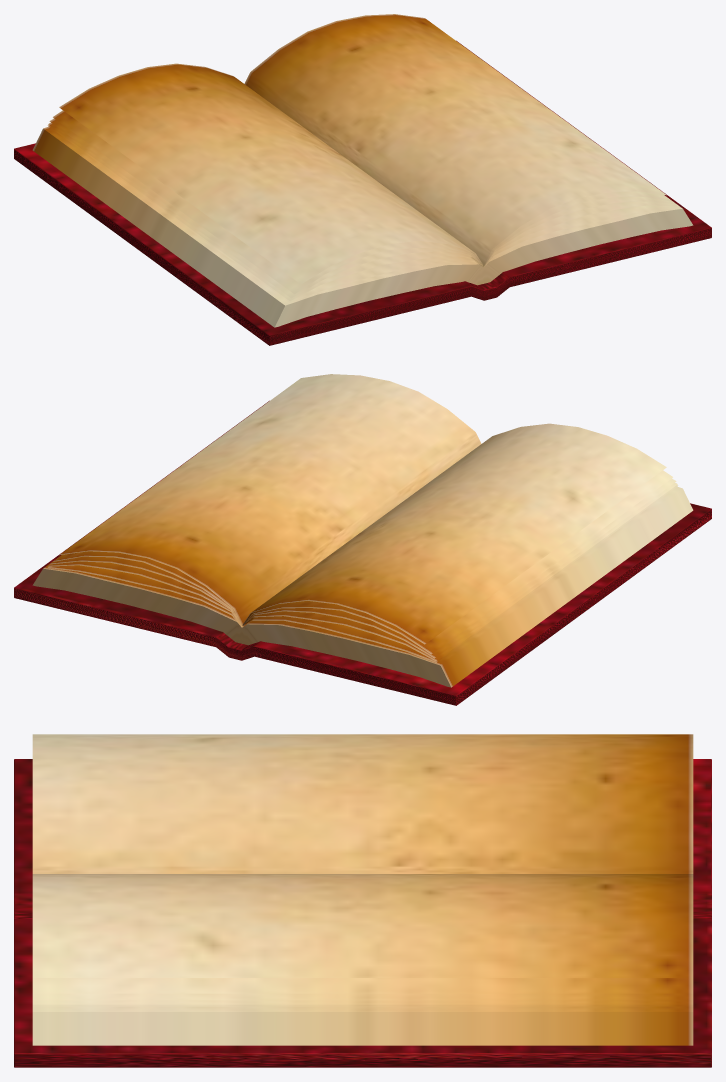
3 renders of one model, top to bottom at view 1: azimuth 30°, elevation 25°; view 2: azimuth 150°, elevation 25°; view 3: azimuth 270°, elevation 25°, orthographic. The views are drawn at different scales.
Parts seen in each view (by area): view 1: polySurface8, polySurface3, polySurface1, polySurface7, polySurface6, polySurface5, polySurface4; view 2: polySurface8, polySurface3, polySurface1, polySurface7, polySurface6, polySurface5, polySurface4; view 3: polySurface8, polySurface1, polySurface3, polySurface7, polySurface6, polySurface5, polySurface4.
Boxes of the visible parts, bbox=[...] form: polySurface8: bbox=[59, 14, 666, 284]; polySurface3: bbox=[32, 126, 693, 327]; polySurface1: bbox=[14, 40, 711, 345]; polySurface7: bbox=[53, 110, 672, 294]; polySurface6: bbox=[49, 118, 675, 298]; polySurface5: bbox=[48, 122, 677, 300]; polySurface4: bbox=[47, 125, 677, 302]; polySurface8: bbox=[59, 374, 666, 644]; polySurface3: bbox=[32, 486, 693, 687]; polySurface1: bbox=[14, 400, 711, 705]; polySurface7: bbox=[53, 470, 672, 654]; polySurface6: bbox=[50, 478, 676, 658]; polySurface5: bbox=[48, 482, 677, 660]; polySurface4: bbox=[48, 485, 678, 662]; polySurface8: bbox=[32, 734, 693, 977]; polySurface1: bbox=[14, 759, 711, 1067]; polySurface3: bbox=[32, 1006, 693, 1045]; polySurface7: bbox=[32, 978, 693, 993]; polySurface6: bbox=[32, 993, 693, 1000]; polySurface5: bbox=[32, 1000, 693, 1004]; polySurface4: bbox=[32, 1004, 693, 1006].
Size of the model in its own units: 0.1601 by 0.0253 by 0.1601.
Materials: 2 (2 with a texture image).
